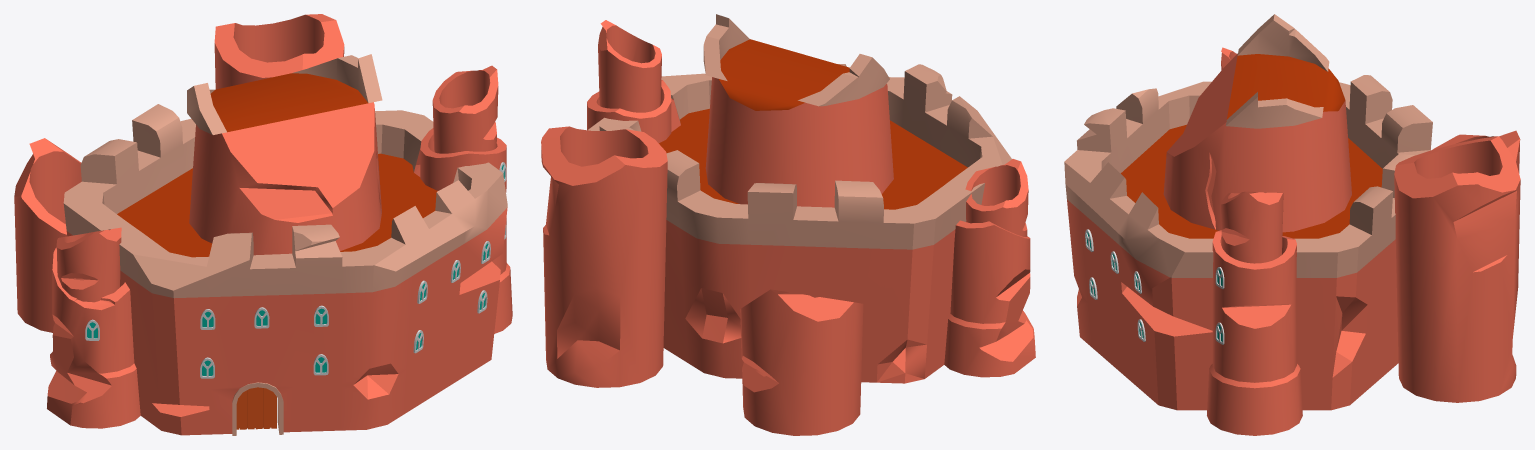
File: Big_Castle_Upgrade2_Stage3.fbx
3 views of the same model, side by side, from view 1: azimuth 30°, elevation 25°; view 2: azimuth 150°, elevation 25°; view 3: azimuth 270°, elevation 25° (orthographic). The views are drawn at different scales.
Parts seen in each view (by area): view 1: Big_Castle_Upgrade2_Stage3; view 2: Big_Castle_Upgrade2_Stage3; view 3: Big_Castle_Upgrade2_Stage3.
Boxes of the visible parts, x1,y1,x2,y2 form: Big_Castle_Upgrade2_Stage3: (14, 14, 512, 435); Big_Castle_Upgrade2_Stage3: (541, 14, 1035, 435); Big_Castle_Upgrade2_Stage3: (1064, 14, 1520, 435).
Size of the model in its own units: 901 by 555 by 819.
1 material, 1 textured.
